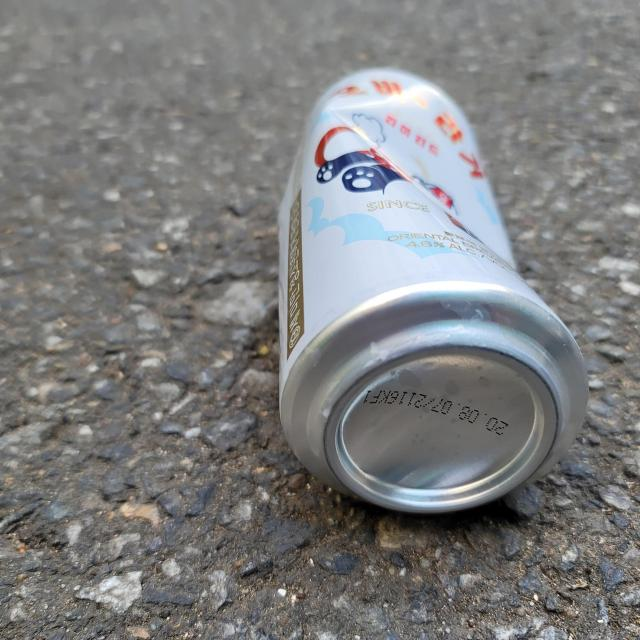can: (279, 67, 589, 514)
